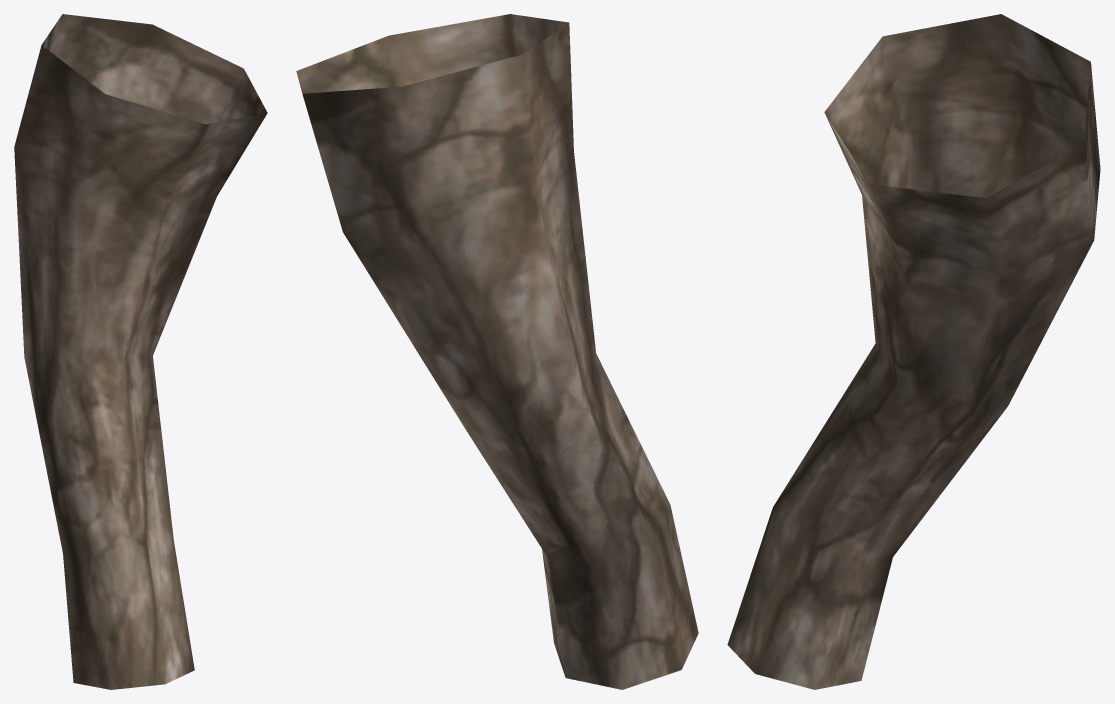
File: EKH_JAIL_PS_JA_PILLAR2299388.fbx
3 renders of one model, left to right at view 1: azimuth 30°, elevation 25°; view 2: azimuth 150°, elevation 25°; view 3: azimuth 270°, elevation 25°, orthographic. The views are drawn at different scales.
Visible parts, largest first — view 1: EKH_JAIL_PS_JA_PILLAR2299388; view 2: EKH_JAIL_PS_JA_PILLAR2299388; view 3: EKH_JAIL_PS_JA_PILLAR2299388.
Boxes of the visible parts, left/top/right/bottom form: EKH_JAIL_PS_JA_PILLAR2299388: left=14, top=14, right=267, bottom=689; EKH_JAIL_PS_JA_PILLAR2299388: left=296, top=14, right=698, bottom=689; EKH_JAIL_PS_JA_PILLAR2299388: left=727, top=14, right=1100, bottom=689.
Bounding box in the file's own units: 23135 × 51367 × 26580.
1 material, 1 textured.
